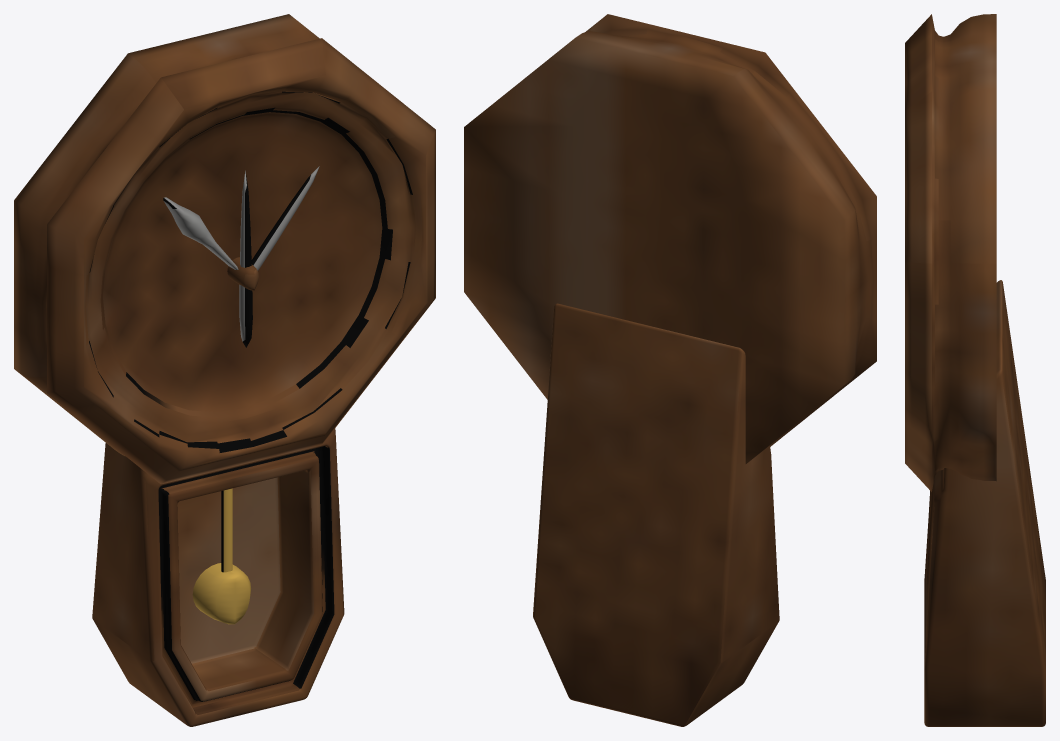
File: RelogioDeParede.fbx
3 views of the same model, side by side, from view 1: azimuth 30°, elevation 25°; view 2: azimuth 150°, elevation 25°; view 3: azimuth 270°, elevation 25° (orthographic). The views are drawn at different scales.
Visible parts, largest first — view 1: RelogioDeParede; view 2: RelogioDeParede; view 3: RelogioDeParede.
Boxes of the visible parts, bbox=[...] form: RelogioDeParede: bbox=[14, 14, 435, 726]; RelogioDeParede: bbox=[464, 14, 876, 726]; RelogioDeParede: bbox=[905, 14, 1045, 726].
Size of the model in its own units: 35.49 by 57.12 by 11.3.
